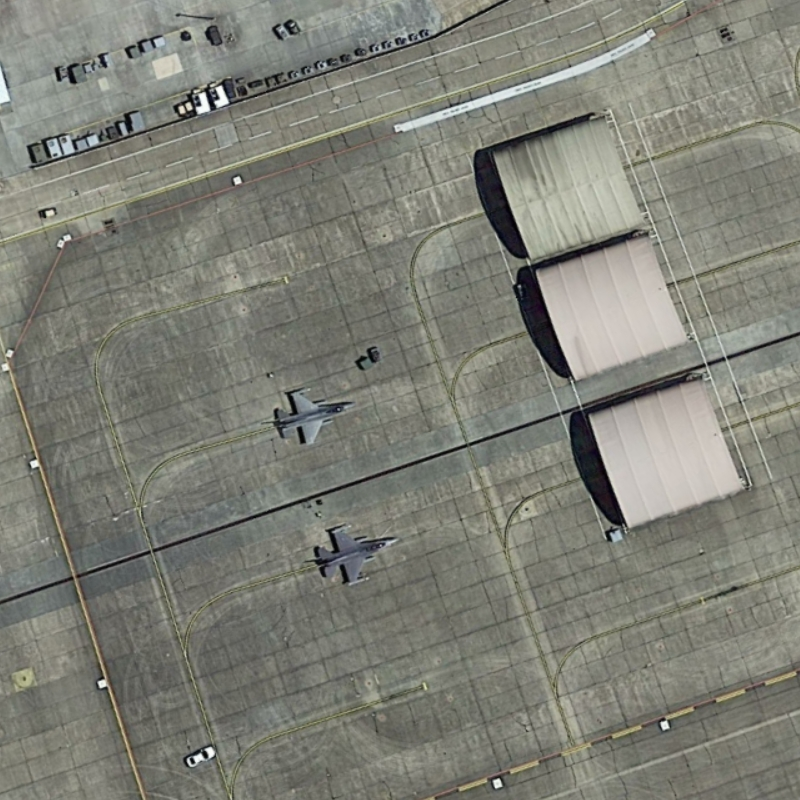A5: (308, 517, 404, 590), (269, 382, 362, 449)
